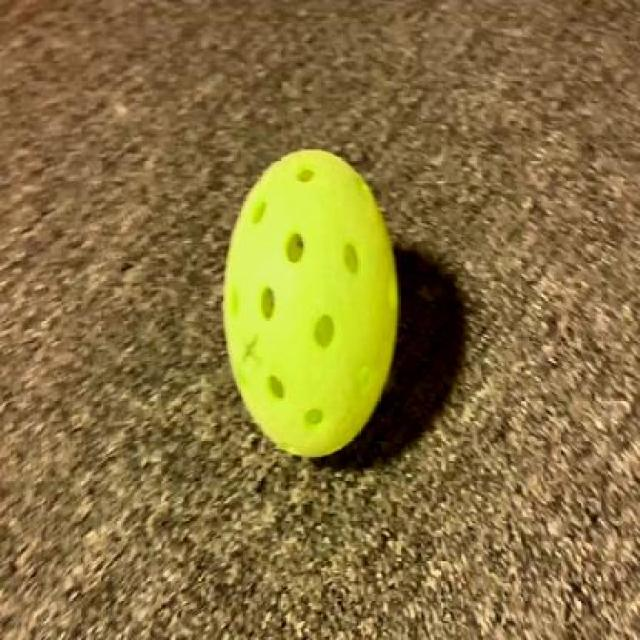ball: (205, 147, 438, 467)
